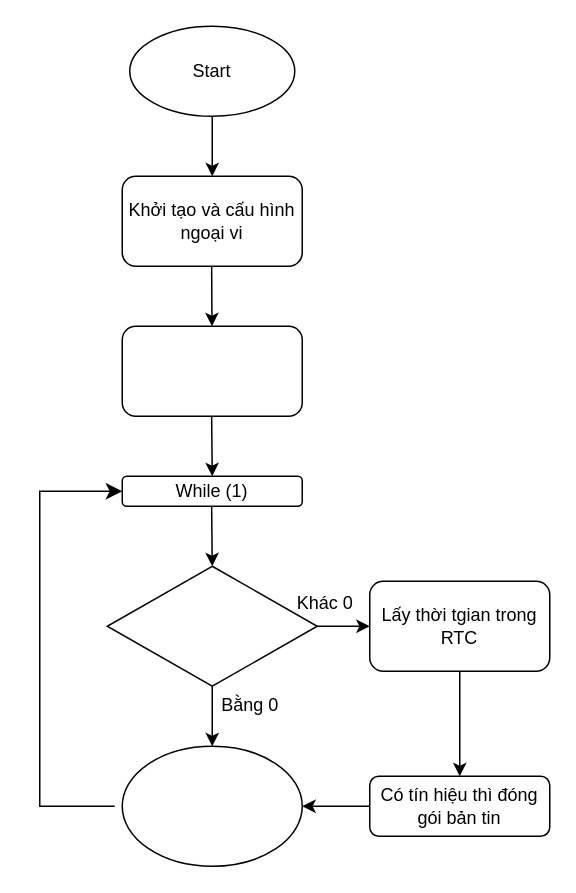
Some shapes in this 576 by 893 pixel diagram are drawn without their labels. Each missing label, with the centre of its shape:
Module Sim: (x=211, y=805)
Năm trong RTC: (x=211, y=625)
Đọc tham số từ flash và chạy chương trình ban đầu: (x=211, y=370)
